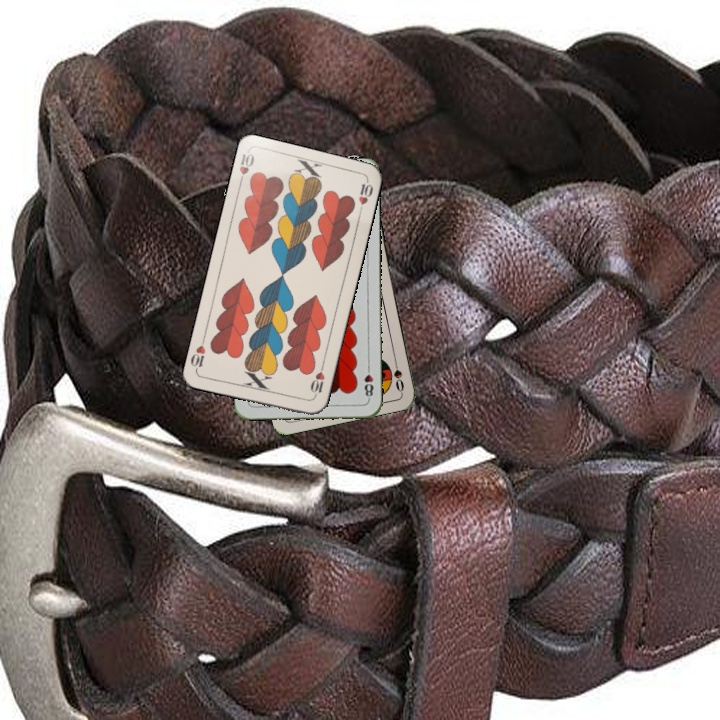H10: (235, 148, 257, 188), (306, 361, 327, 401)
H8: (360, 361, 376, 402)
SO: (390, 354, 406, 394)
